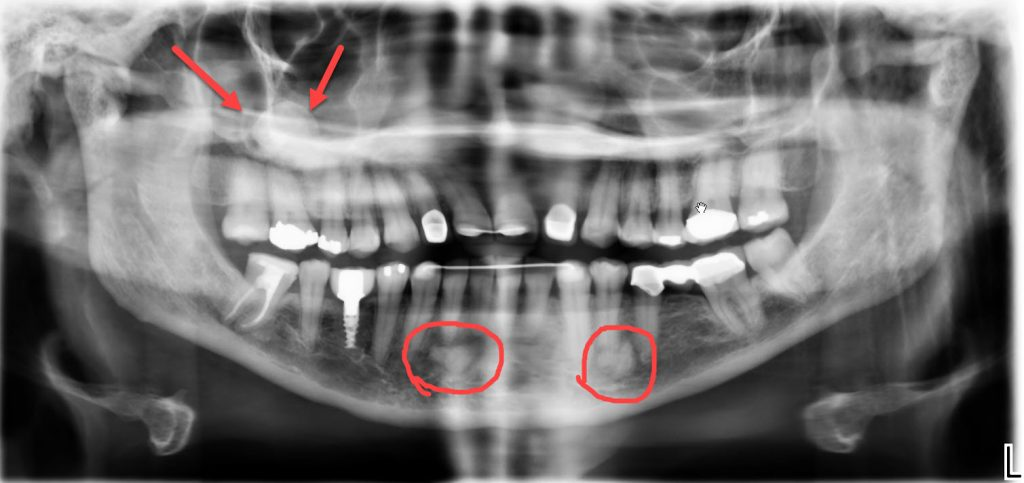canine: (372, 146, 421, 249), (556, 255, 593, 356), (582, 154, 619, 251), (412, 259, 442, 360)
incisor: (438, 146, 496, 243), (488, 146, 540, 239), (411, 143, 457, 247), (544, 148, 584, 248), (524, 260, 554, 352), (441, 265, 469, 353), (495, 265, 522, 356), (469, 264, 493, 360)
molar: (217, 143, 280, 254), (265, 150, 320, 255), (737, 133, 795, 228), (742, 231, 819, 301), (679, 158, 737, 243), (295, 256, 330, 355)
premolar: (312, 148, 354, 254), (589, 252, 630, 358), (375, 254, 413, 363), (653, 138, 684, 260), (628, 256, 662, 360), (346, 148, 378, 256), (620, 146, 652, 248)
